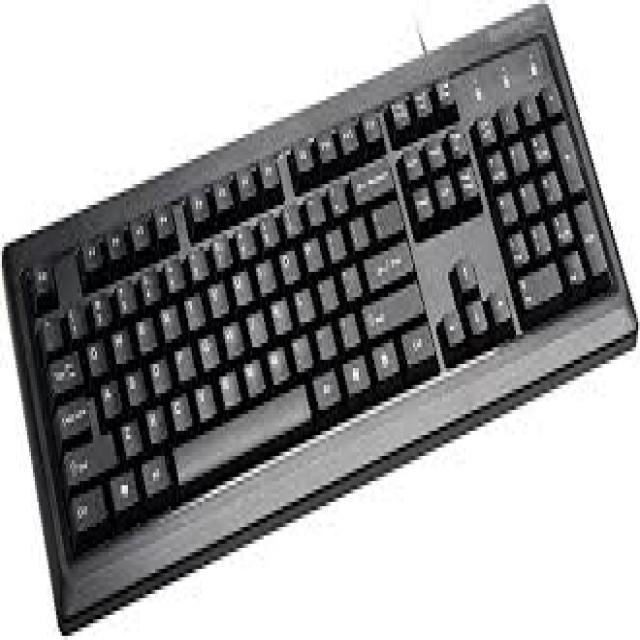others: (2, 4, 640, 623)
